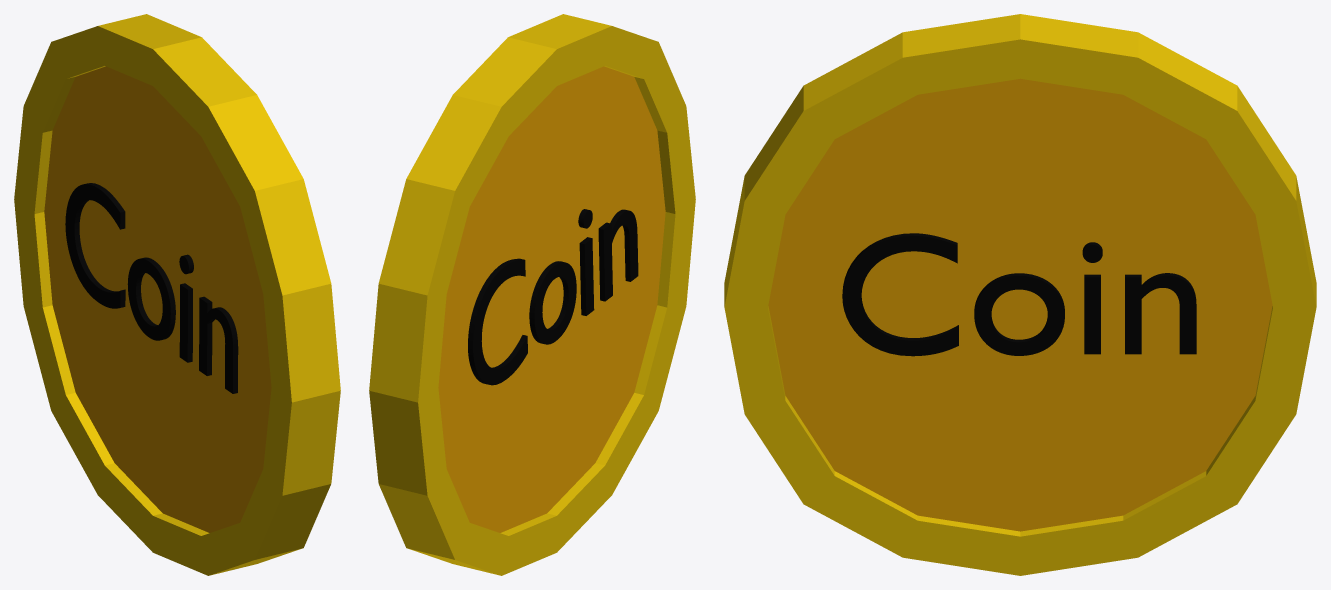
File: Coin.fbx
3 views of the same model, side by side, from view 1: azimuth 30°, elevation 25°; view 2: azimuth 150°, elevation 25°; view 3: azimuth 270°, elevation 25° (orthographic). The views are drawn at different scales.
Visible parts, largest first — view 1: Plane, Text.001; view 2: Plane, Text.001; view 3: Plane, Text.
Part boxes in pixels (bbox=[...]): Plane: bbox=[14, 14, 340, 575]; Text.001: bbox=[65, 183, 238, 393]; Plane: bbox=[369, 14, 695, 575]; Text.001: bbox=[468, 209, 638, 385]; Plane: bbox=[724, 14, 1316, 575]; Text: bbox=[842, 233, 1196, 356].
Size of the model in its own units: 5.68 by 50 by 50.
